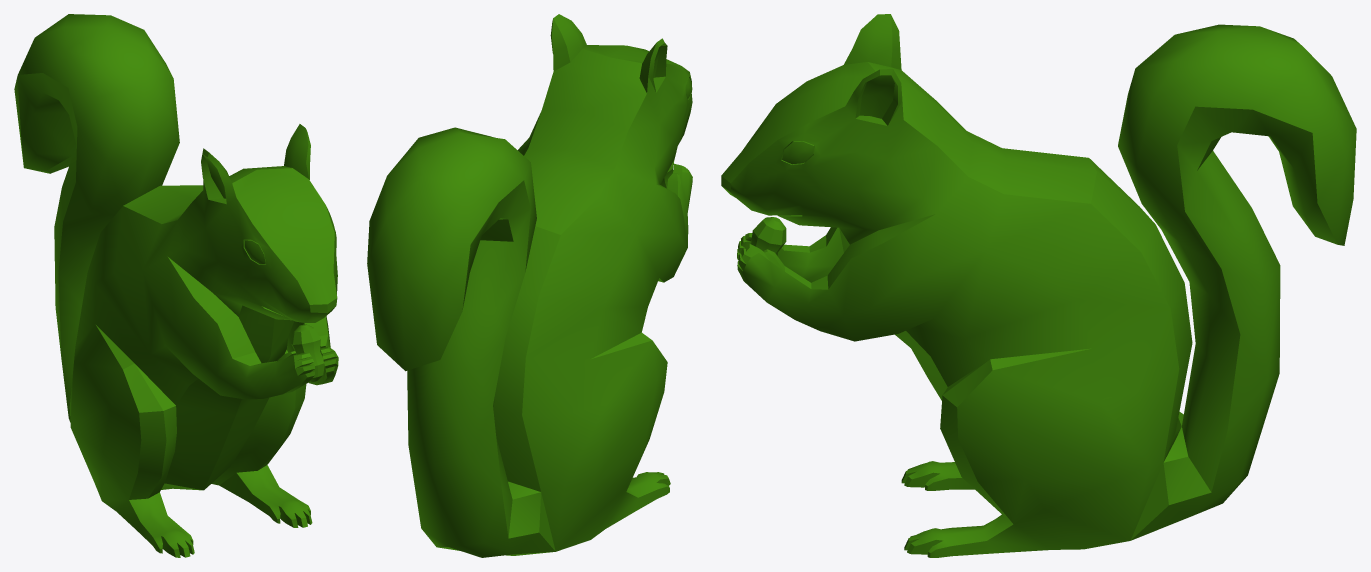
File: Low Poly Squirrel_OBJ.obj
3 renders of one model, left to right at view 1: azimuth 30°, elevation 25°; view 2: azimuth 150°, elevation 25°; view 3: azimuth 270°, elevation 25°, orthographic. The views are drawn at different scales.
Visible parts, largest first — view 1: Low_Poly_Squirrel; view 2: Low_Poly_Squirrel; view 3: Low_Poly_Squirrel.
Boxes of the visible parts, x1,y1,x2,y2 form: Low_Poly_Squirrel: (14, 14, 338, 557); Low_Poly_Squirrel: (367, 14, 692, 557); Low_Poly_Squirrel: (721, 14, 1356, 557).
Size of the model in its own units: 70.52 by 150 by 180.
